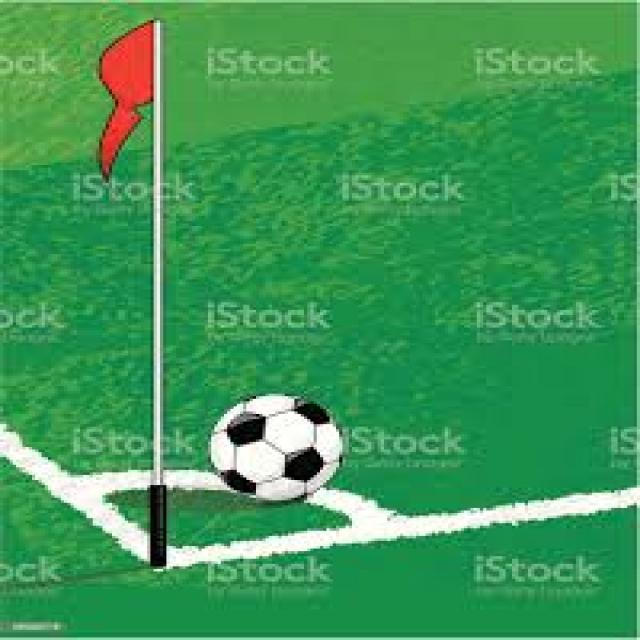corner-kick: (40, 17, 426, 573)
